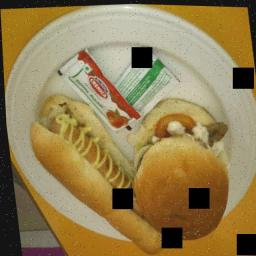hotdog: (51, 107, 104, 182), (106, 160, 136, 215)
